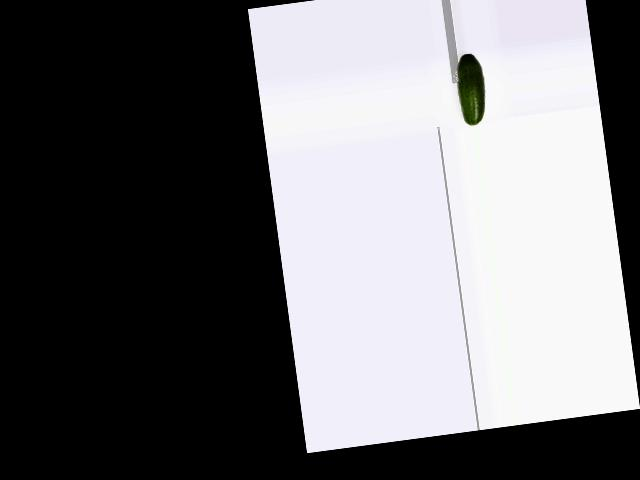cucumber: (452, 50, 490, 127)
